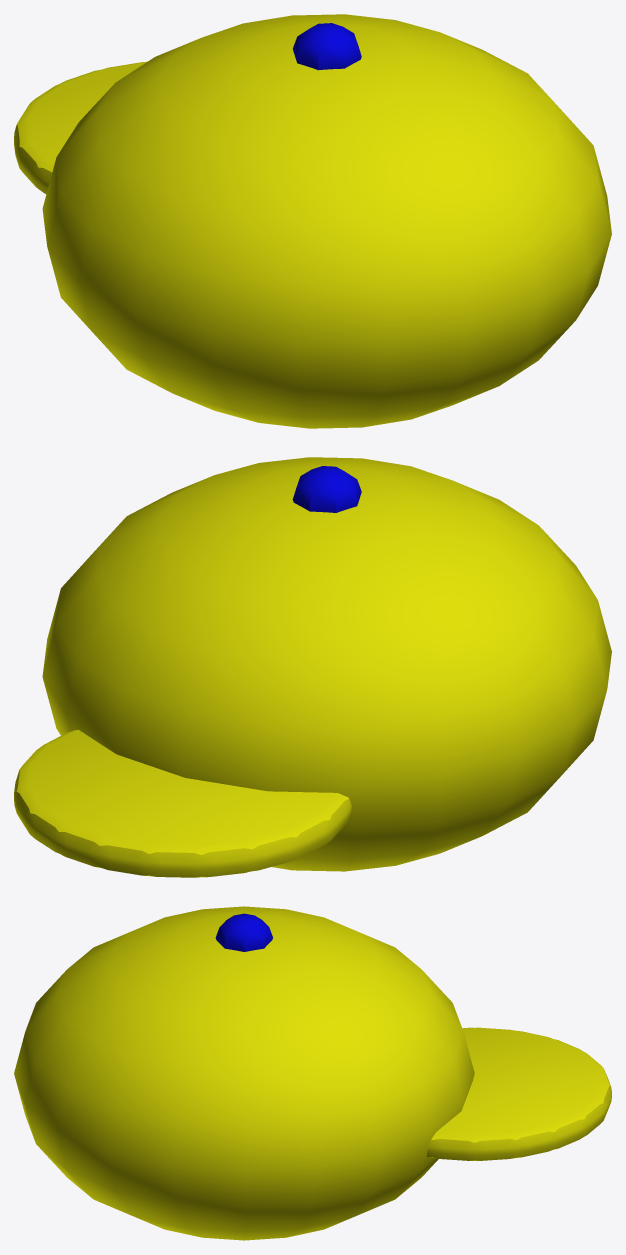
The model's file is Hat1.fbx.
3 views of the same model, one above another, from view 1: azimuth 30°, elevation 25°; view 2: azimuth 150°, elevation 25°; view 3: azimuth 270°, elevation 25° (orthographic). The views are drawn at different scales.
Parts seen in each view (by area): view 1: Hat1; view 2: Hat1; view 3: Hat1.
Boxes of the visible parts, x1,y1,x2,y2 form: Hat1: (14, 14, 611, 428); Hat1: (14, 457, 611, 877); Hat1: (14, 906, 611, 1240).
Bounding box in the file's own units: 0.4 × 0.28 × 0.5191.
